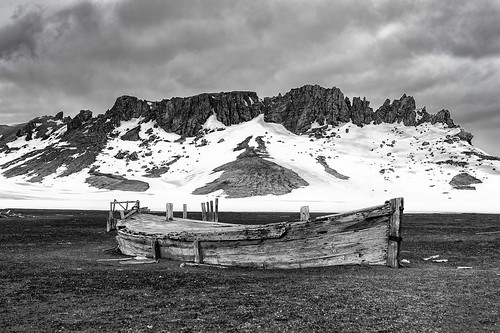boat: (97, 198, 413, 282)
mountain: (52, 83, 457, 171)
sky: (1, 1, 488, 103)
